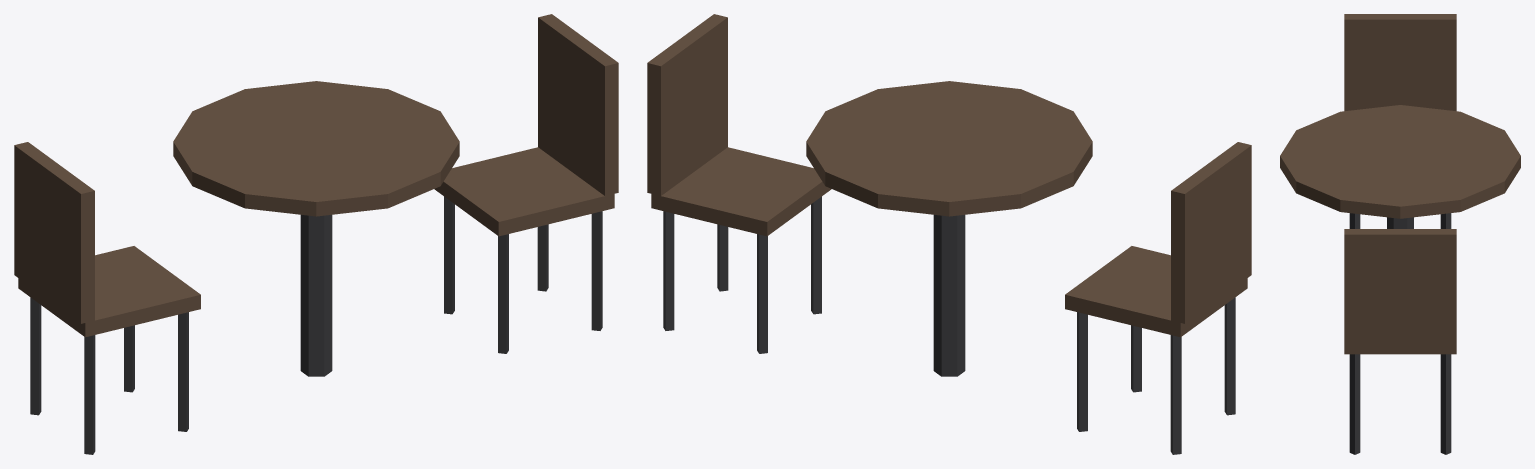
Rendered from cafe_table.glb.
The picture shows the model from 3 angles, left to right: view 1: azimuth 30°, elevation 25°; view 2: azimuth 150°, elevation 25°; view 3: azimuth 270°, elevation 25°; orthographic projection. The views are drawn at different scales.
Parts seen in each view (by area): view 1: cafe_table; view 2: cafe_table; view 3: cafe_table.
Boxes of the visible parts, <box> form: cafe_table: <box>14,14,618,454</box>; cafe_table: <box>647,14,1251,454</box>; cafe_table: <box>1280,14,1520,454</box>.
Size of the model in its own units: 1.95 by 0.925 by 0.9.
